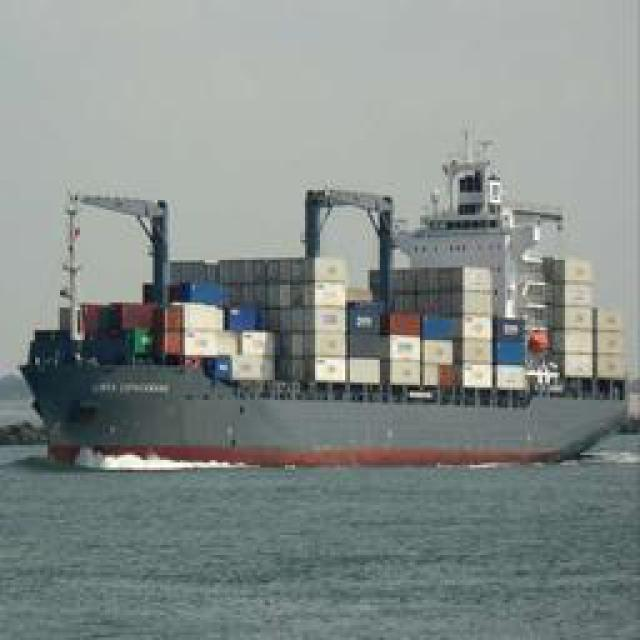Ship: (11, 194, 619, 464)
